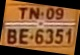character: (7, 26, 17, 44), (19, 28, 29, 44), (34, 28, 44, 44), (28, 6, 40, 19), (54, 28, 63, 44), (64, 27, 72, 44), (45, 28, 53, 44), (55, 6, 64, 20), (46, 6, 55, 19), (19, 6, 27, 20)
